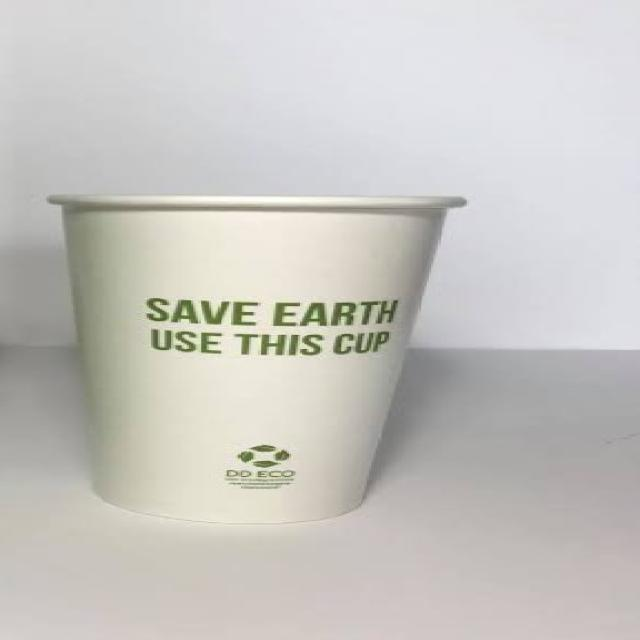plastic cup: (21, 182, 499, 543)
